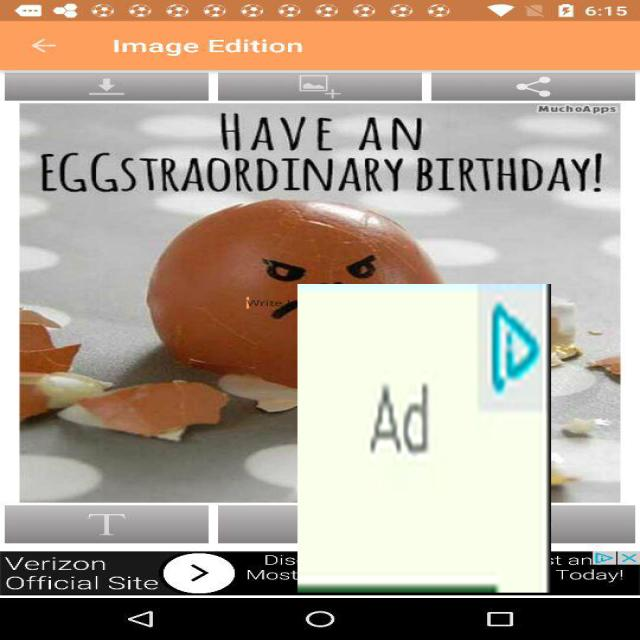sneaking: (298, 284, 551, 593)
